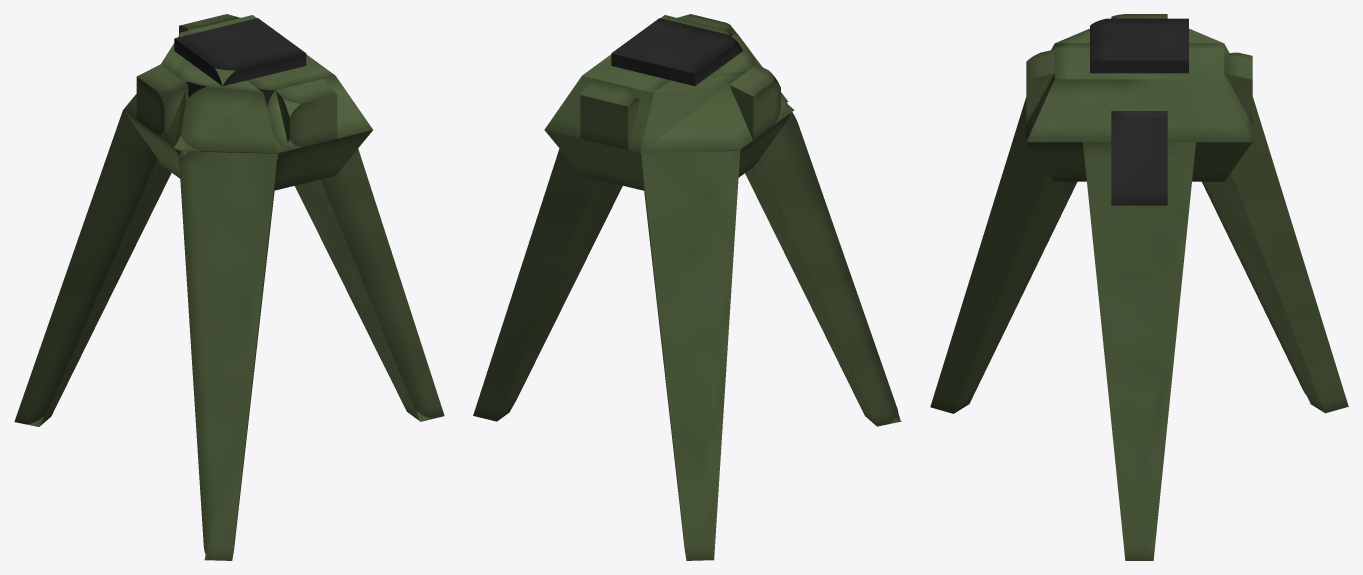
The model's file is turret_stand.obj.
3 renders of one model, left to right at view 1: azimuth 30°, elevation 25°; view 2: azimuth 150°, elevation 25°; view 3: azimuth 270°, elevation 25°, orthographic. The views are drawn at different scales.
Visible parts, largest first — view 1: gunModel5, gunModel6, gunModel4, gunModel1, gunModel7, gunModel0, gunModel10, gunModel3, gunModel9, gunModel2; view 2: gunModel6, gunModel5, gunModel4, gunModel1, gunModel7, gunModel0, gunModel11, gunModel3, gunModel9, gunModel2; view 3: gunModel4, gunModel5, gunModel6, gunModel0, gunModel7, gunModel8, gunModel3, gunModel11, gunModel10, gunModel1.
Boxes of the visible parts, x1=… form: gunModel5: x1=179, y1=145, x2=278, y2=560; gunModel6: x1=14, y1=110, x2=171, y2=426; gunModel4: x1=295, y1=148, x2=444, y2=421; gunModel1: x1=123, y1=33, x2=277, y2=153; gunModel7: x1=174, y1=18, x2=306, y2=158; gunModel0: x1=181, y1=15, x2=372, y2=152; gunModel10: x1=276, y1=78, x2=337, y2=149; gunModel3: x1=274, y1=130, x2=372, y2=190; gunModel9: x1=136, y1=64, x2=188, y2=136; gunModel2: x1=124, y1=111, x2=277, y2=178; gunModel6: x1=641, y1=150, x2=740, y2=560; gunModel5: x1=745, y1=112, x2=901, y2=426; gunModel4: x1=473, y1=148, x2=622, y2=421; gunModel1: x1=640, y1=32, x2=794, y2=153; gunModel7: x1=611, y1=18, x2=743, y2=86; gunModel0: x1=544, y1=15, x2=732, y2=152; gunModel11: x1=580, y1=78, x2=639, y2=150; gunModel3: x1=544, y1=130, x2=643, y2=190; gunModel9: x1=729, y1=64, x2=780, y2=140; gunModel2: x1=640, y1=113, x2=790, y2=177; gunModel4: x1=1083, y1=142, x2=1195, y2=560; gunModel5: x1=930, y1=97, x2=1077, y2=413; gunModel6: x1=1202, y1=97, x2=1348, y2=413; gunModel0: x1=1026, y1=43, x2=1252, y2=142; gunModel7: x1=1090, y1=18, x2=1188, y2=73; gunModel8: x1=1111, y1=111, x2=1167, y2=205; gunModel3: x1=1026, y1=142, x2=1252, y2=181; gunModel11: x1=1224, y1=52, x2=1252, y2=123; gunModel10: x1=1026, y1=49, x2=1054, y2=123; gunModel1: x1=1051, y1=28, x2=1223, y2=49.
Size of the model in its own units: 13.74 by 16.5 by 14.8.
